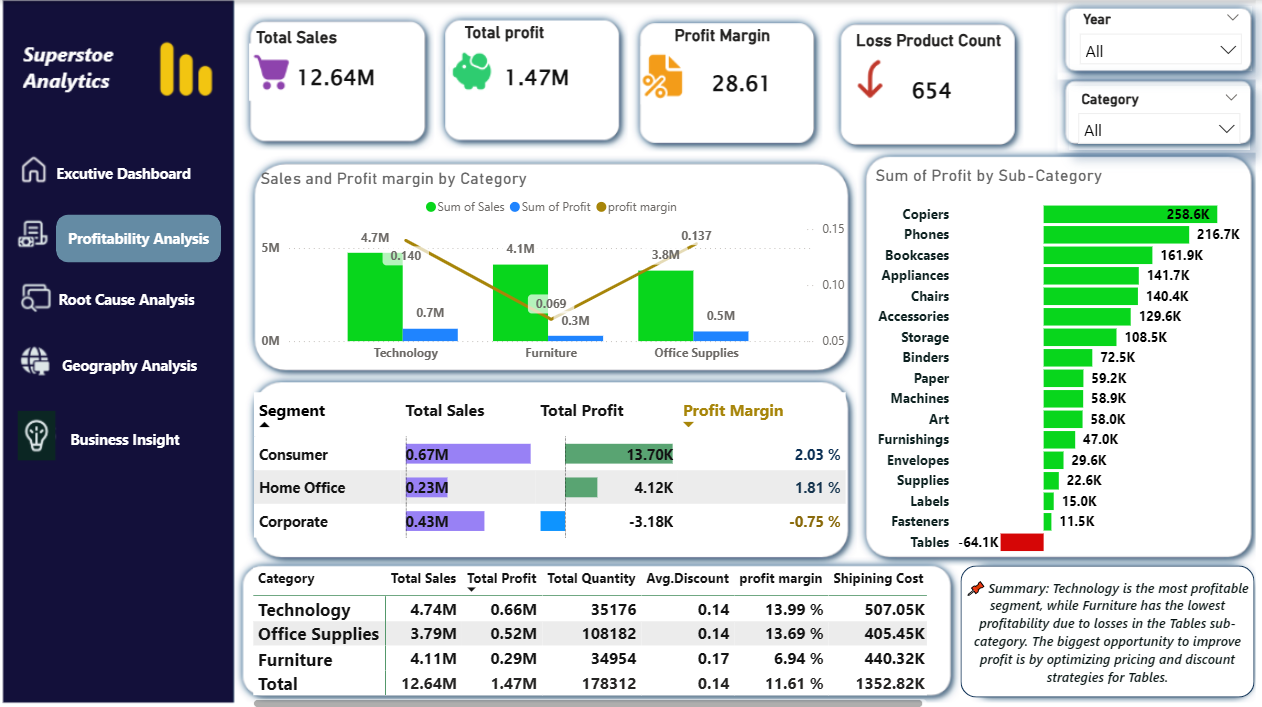

What the dashboard file says about the page in this screenshot:
{"tool":"powerbi","page":{"name":"Profitability Analysis","canvas":[1280,720],"ordinal":1},"visuals":[{"type":"shape","box":[21.2,151.4,209,46.9],"z":0},{"type":"shape","box":[27.3,278.6,202.9,46.9],"z":1000},{"type":"shape","box":[21.2,345.2,221.1,46.9],"z":2000},{"type":"shape","box":[25.7,420.9,202.9,45.4],"z":3000},{"type":"shape","box":[57.5,216.5,166.6,48.5],"z":4000},{"type":"cardVisual","title":"Loss Product Count","fields":{"Data":["measuress.loss product count"]},"box":[860.1,30.3,163.5,103],"z":5000},{"type":"slicer","fields":{"Values":["Date.Year"]},"box":[1081.7,6.7,183.3,65],"z":6000},{"type":"slicer","fields":{"Values":["Dim_product.Category"]},"box":[1080,86.7,183.3,65],"z":7000},{"type":"clusteredBarChart","fields":{"Y":["Sum(Fact_sales.Profit)"],"Category":["Dim_product.Sub-Category"]},"box":[879.8,166.6,399.8,402.8],"z":8000},{"type":"lineClusteredColumnComboChart","title":"Sales and Profit margin by Category","fields":{"Y":["Sum(Fact_sales.Sales)","Sum(Fact_sales.Profit)"],"Category":["Dim_product.Category"],"Y2":["measuress.profit margin"]},"box":[258.9,169.6,601.1,204.4],"z":9000},{"type":"pivotTable","fields":{"Rows":["Dim_product.Category"],"Values":["Sum(Fact_sales.Sales)","Sum(Fact_sales.Profit)","Sum(Fact_sales.Quantity)","Avg(Fact_sales.Discount)","measuress.profit margin","Sum(Fact_sales.Shipping Cost)"]},"box":[251.7,568.3,690,151.7],"z":10000},{"type":"tableEx","fields":{"Values":["Dim_customer.Segment","Sum(Fact_sales.Sales)","Sum(Fact_sales.Profit)","measuress.profit margin"]},"box":[251.7,390,610,178.3],"z":11000},{"type":"cardVisual","title":"Profit Margin","fields":{"Data":["Avg(Fact_sales.Profit)"]},"box":[676.7,25,146.7,96.7],"z":12000},{"type":"cardVisual","title":"Total Sales","fields":{"Data":["measuress.total sales"]},"box":[255,26.7,171.7,83.3],"z":13000},{"type":"cardVisual","title":"Total profit","fields":{"Data":["measuress.total profit"]},"box":[465,23.3,156.7,91.7],"z":14000},{"type":"shape","box":[970.6,570.9,296.8,133.3],"z":15000}]}

Visuals, with their boxes on the page's 1280x720 design canvas (x1, y1, x2, y2). These are canvas units, not pixel positions in the 1262x707 screenshot, which may show the page scaled, cropped or inside an application window:
shape: [x1=21, y1=151, x2=230, y2=198]
shape: [x1=27, y1=279, x2=230, y2=326]
shape: [x1=21, y1=345, x2=242, y2=392]
shape: [x1=26, y1=421, x2=229, y2=466]
shape: [x1=58, y1=216, x2=224, y2=265]
"Loss Product Count" cardVisual: [x1=860, y1=30, x2=1024, y2=133]
slicer - Date.Year: [x1=1082, y1=7, x2=1265, y2=72]
slicer - Dim_product.Category: [x1=1080, y1=87, x2=1263, y2=152]
clusteredBarChart - Sum(Fact_sales.Profit) x Dim_product.Sub-Category: [x1=880, y1=167, x2=1280, y2=569]
"Sales and Profit margin by Category" lineClusteredColumnComboChart: [x1=259, y1=170, x2=860, y2=374]
pivotTable - Dim_product.Category x Sum(Fact_sales.Sales): [x1=252, y1=568, x2=942, y2=720]
tableEx - Dim_customer.Segment x Sum(Fact_sales.Sales): [x1=252, y1=390, x2=862, y2=568]
"Profit Margin" cardVisual: [x1=677, y1=25, x2=823, y2=122]
"Total Sales" cardVisual: [x1=255, y1=27, x2=427, y2=110]
"Total profit" cardVisual: [x1=465, y1=23, x2=622, y2=115]
shape: [x1=971, y1=571, x2=1267, y2=704]
